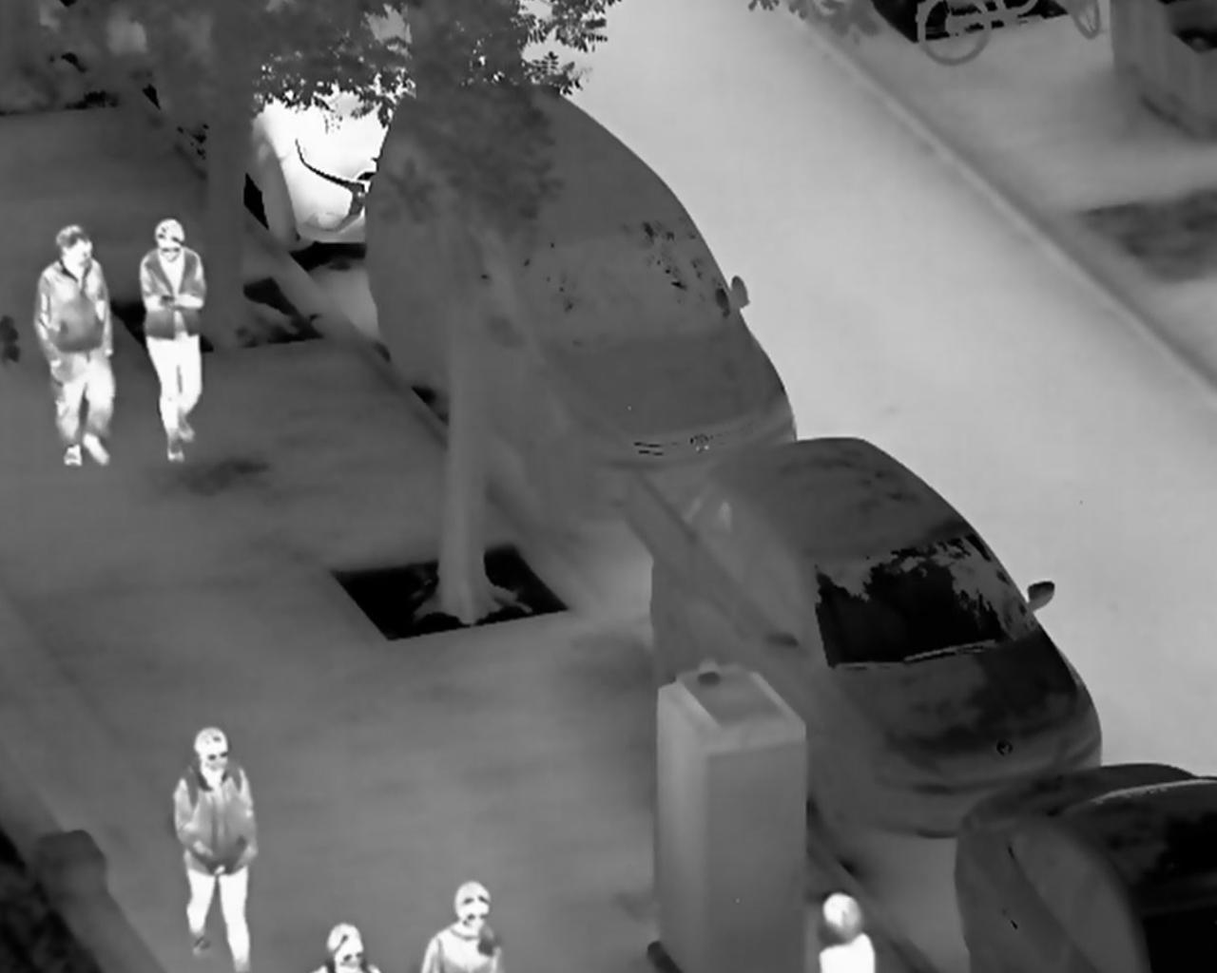person: (171, 727, 260, 973), (29, 223, 115, 470), (134, 217, 207, 466), (419, 880, 510, 973)
